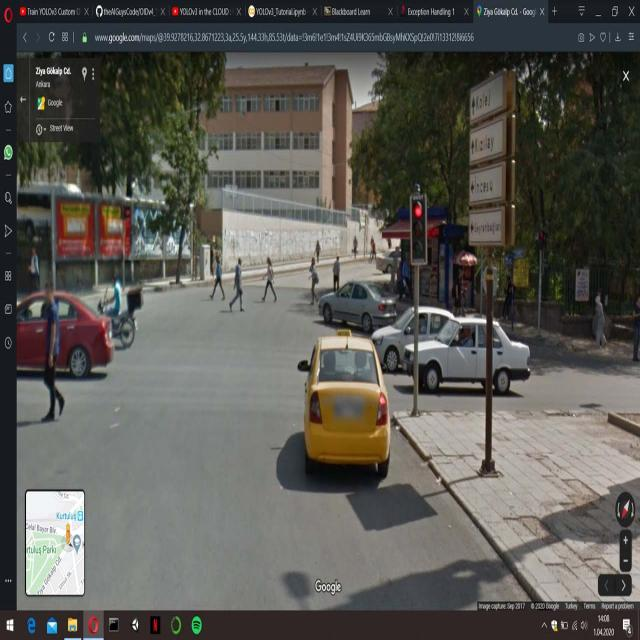kirmizi: (410, 195, 427, 265)
